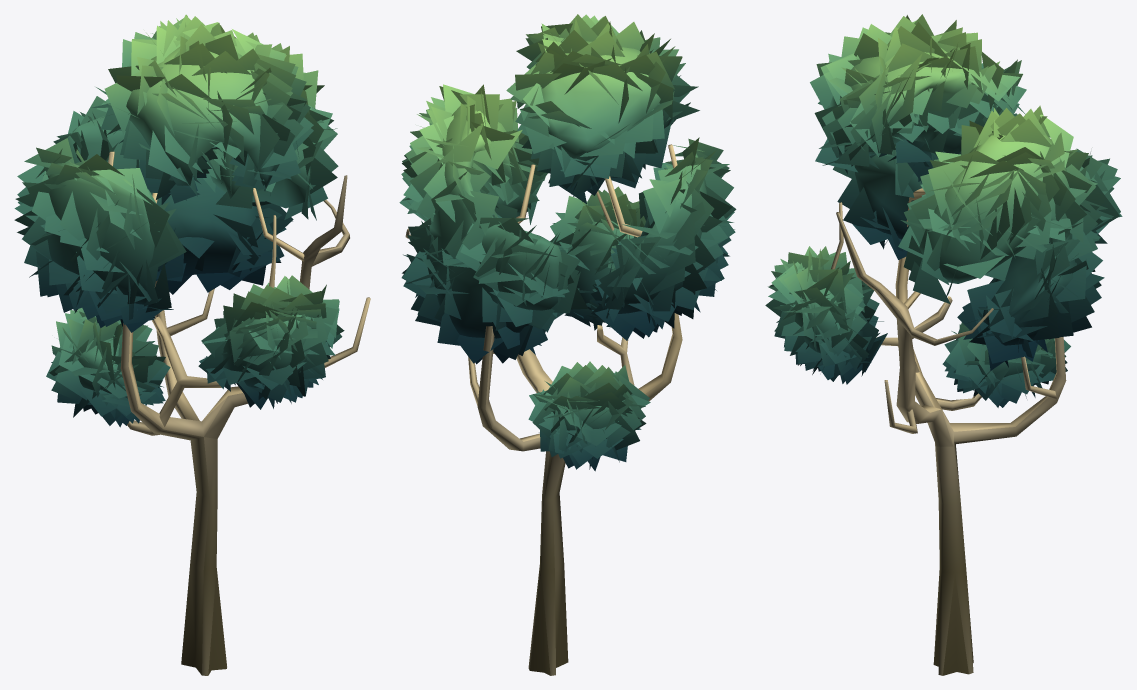
The model's file is Forest_Tree_7D.fbx.
The picture shows the model from 3 angles, left to right: view 1: azimuth 30°, elevation 25°; view 2: azimuth 150°, elevation 25°; view 3: azimuth 270°, elevation 25°; orthographic projection. The views are drawn at different scales.
Parts seen in each view (by area): view 1: Forest_Tree_7D; view 2: Forest_Tree_7D; view 3: Forest_Tree_7D.
Part boxes in pixels (x1,y1,x2,y2): Forest_Tree_7D: (14,14,370,675); Forest_Tree_7D: (399,14,736,675); Forest_Tree_7D: (765,14,1122,675).
Bounding box in the file's own units: 430 × 848 × 438.
